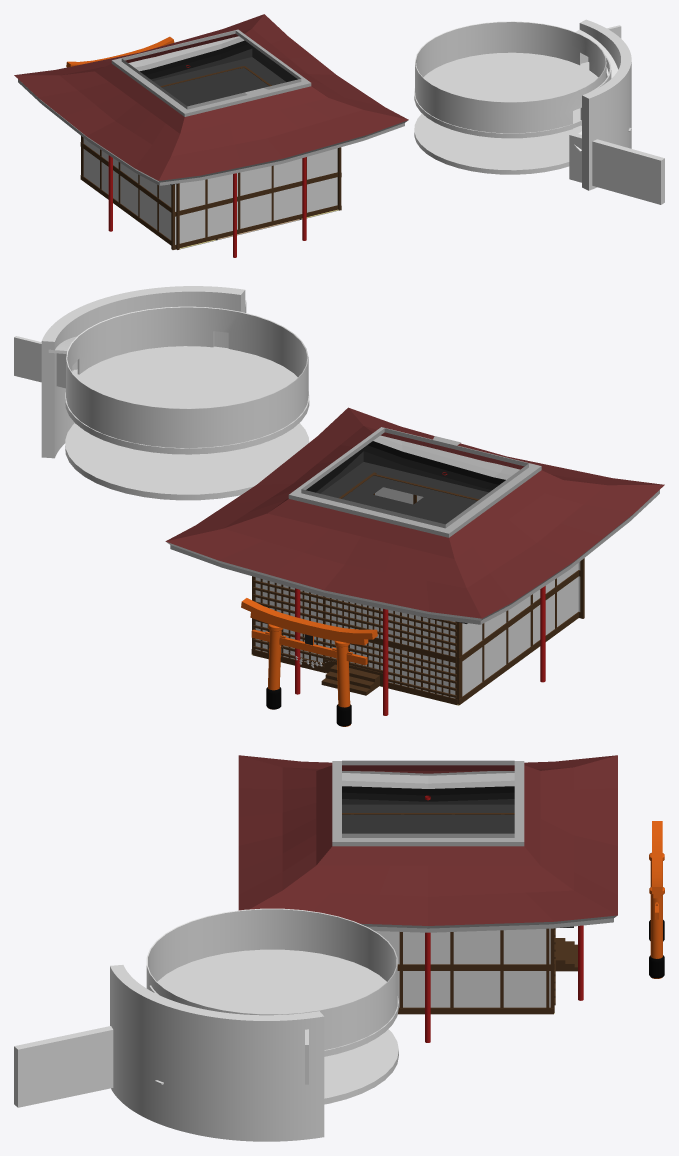
The model's file is map.FBX.
The picture shows the model from 3 angles, top to bottom: view 1: azimuth 30°, elevation 25°; view 2: azimuth 150°, elevation 25°; view 3: azimuth 270°, elevation 25°; orthographic projection. The views are drawn at different scales.
Parts seen in each view (by area): view 1: MultiMat_1, Cylinder038, Box043, Cylinder037, Cylinder005, Box039, Box038, 1, Box073, 2, MultiMat_0, Box048 (+4 smaller); view 2: MultiMat_1, Cylinder038, Cylinder037, Cylinder005, Box039, 1, Box073, Box088, 2, MultiMat_0, Box118, Box037 (+8 smaller); view 3: MultiMat_1, Box039, Cylinder038, Cylinder037, Box061, Box038, 1, Cylinder005, 2, Box062, MultiMat_0, Box064 (+2 smaller).
Part boxes in pixels (x1,y1,x2,y2): MultiMat_1: [14, 14, 408, 185]; Cylinder038: [415, 21, 606, 138]; Box043: [175, 148, 337, 244]; Cylinder037: [414, 52, 597, 138]; Cylinder005: [414, 113, 581, 174]; Box039: [579, 19, 631, 190]; Box038: [569, 132, 664, 204]; 1: [151, 48, 289, 185]; Box073: [83, 138, 171, 239]; 2: [140, 40, 297, 81]; MultiMat_0: [108, 65, 306, 257]; Box048: [172, 172, 338, 216]; MultiMat_1: [165, 407, 664, 624]; Cylinder038: [66, 306, 308, 454]; Cylinder037: [65, 346, 309, 454]; Cylinder005: [65, 423, 309, 500]; Box039: [41, 286, 245, 458]; 1: [316, 451, 491, 623]; Box073: [462, 563, 578, 696]; Box088: [388, 610, 455, 698]; 2: [306, 441, 505, 492]; MultiMat_0: [295, 472, 545, 715]; Box118: [255, 577, 322, 666]; Box037: [14, 336, 66, 388]; MultiMat_1: [238, 755, 617, 932]; Box039: [110, 965, 324, 1141]; Cylinder038: [146, 908, 397, 1056]; Cylinder037: [157, 949, 398, 1056]; Box061: [375, 928, 550, 1007]; Box038: [14, 1026, 113, 1107]; 1: [342, 799, 573, 927]; Cylinder005: [324, 1029, 398, 1104]; 2: [342, 786, 514, 801]; Box062: [398, 1007, 553, 1014]; MultiMat_0: [425, 795, 583, 1042]; Box064: [397, 964, 553, 970].
Bounding box in the file's own units: 1.4 × 0.3766 × 1.23.
